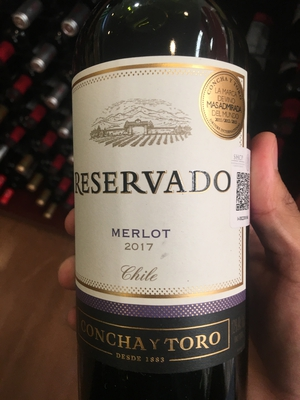reservado merlot: (55, 16, 264, 400)
